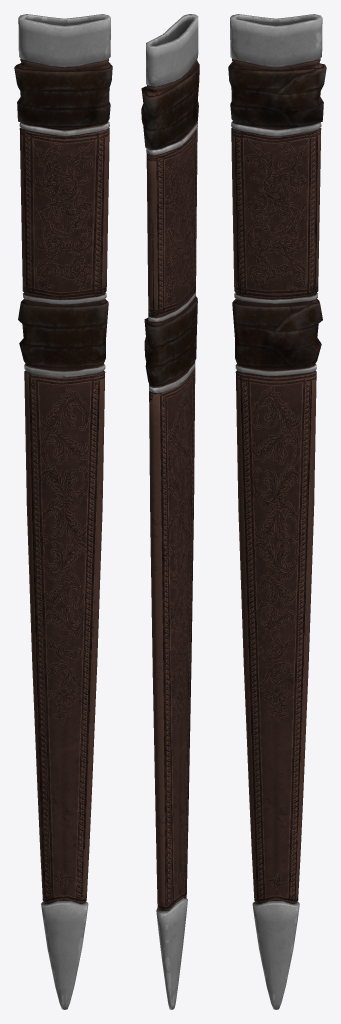
File: SM_Scabbards_01.fbx
The picture shows the model from 3 angles, left to right: view 1: azimuth 90°, elevation 25°; view 2: azimuth 150°, elevation 25°; view 3: azimuth 270°, elevation 25°; orthographic projection.
Parts seen in each view (by area): view 1: SM_Scabbards_01_LOD0; view 2: SM_Scabbards_01_LOD0; view 3: SM_Scabbards_01_LOD0.
Part boxes in pixels (x1,y1,x2,y2): SM_Scabbards_01_LOD0: [14, 14, 112, 1009]; SM_Scabbards_01_LOD0: [141, 14, 199, 1009]; SM_Scabbards_01_LOD0: [228, 14, 326, 1009].
Bounding box in the file's own units: 3.64 × 9.98 × 111.
Materials: 1 (1 with a texture image).
